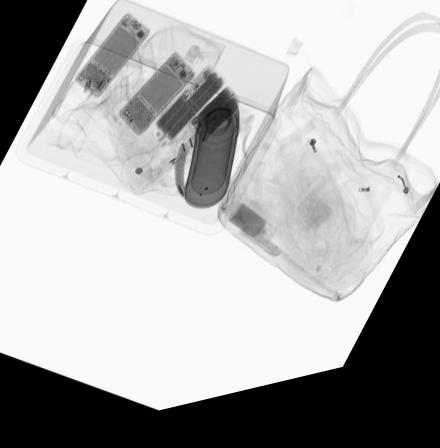Powerbank: (153, 74, 225, 150), (188, 96, 242, 155)
